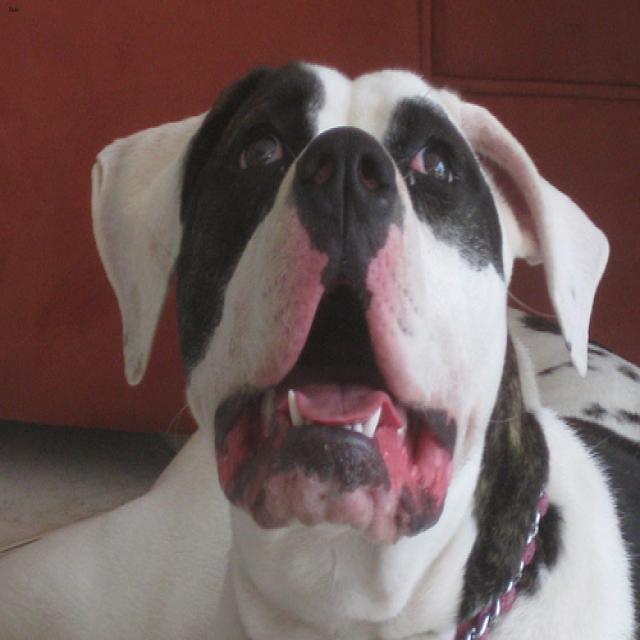dog-american_bulldog: (1, 46, 637, 637)
